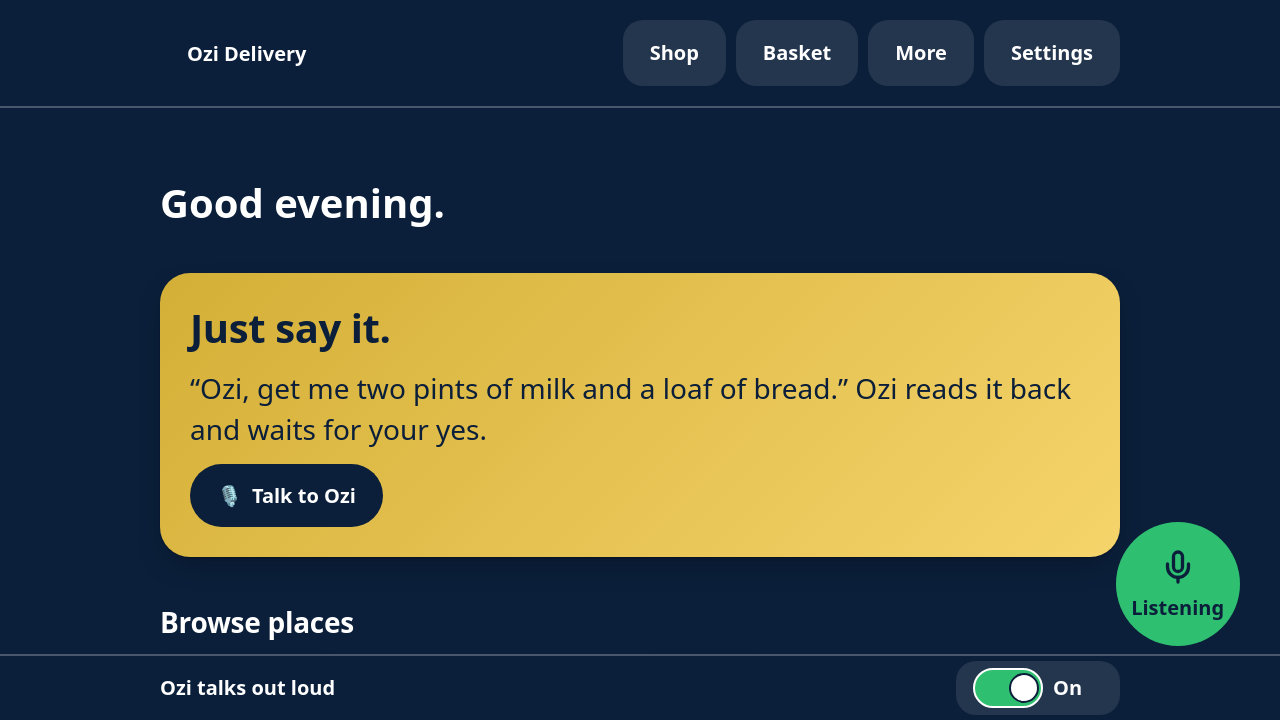
it: the round button › glows green while listening; pressing pauses it, and it changes in more than colour
Click the button "Listening": (1178, 584) [1116,522,1240,646]
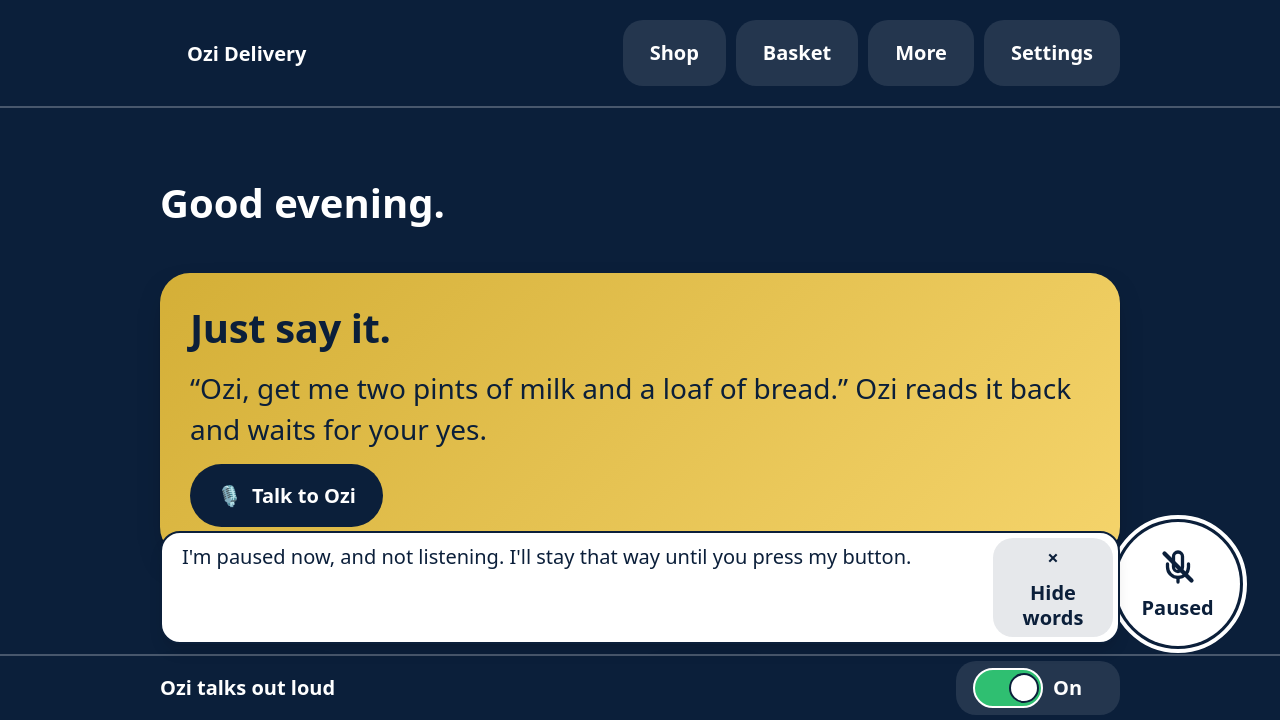
Now the button "Paused" is shown
Click the button "Paused": (1178, 584) [1116,522,1240,646]
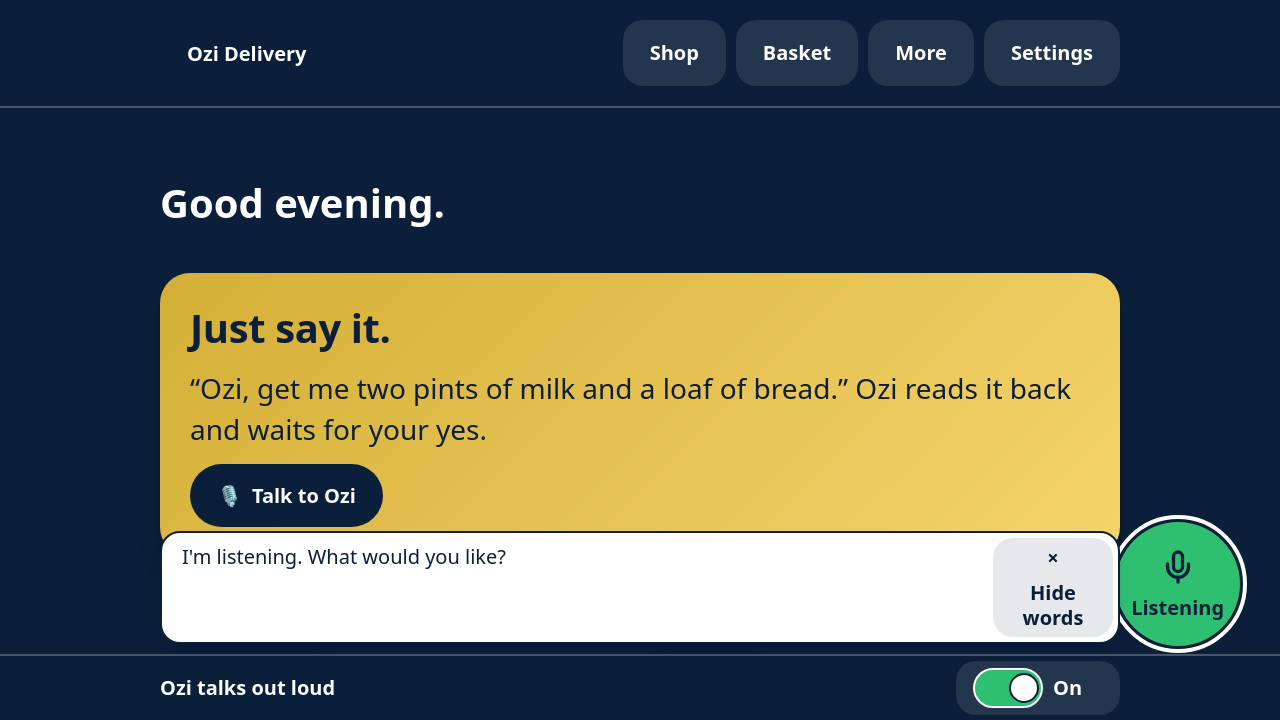
Now the message "I'm listening. What would you like?" is shown, box [182,543,506,570]
